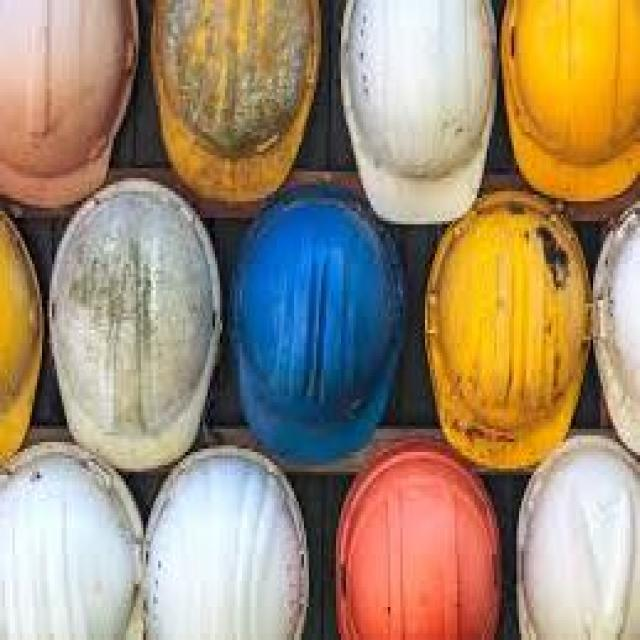Safety-Helmet: (413, 192, 598, 478), (48, 199, 229, 444), (237, 203, 401, 446), (137, 1, 327, 201), (328, 432, 506, 640), (335, 1, 495, 218), (158, 463, 346, 640), (494, 3, 640, 208), (1, 432, 143, 638), (1, 1, 134, 182), (1, 168, 52, 482)
